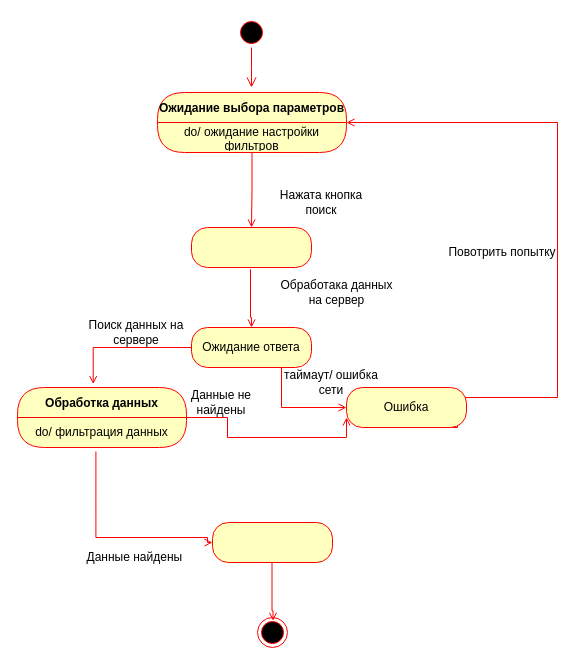
Image size: 583x665. Some labels were removed from this diagram. The shapes that lost their labels are listed below. From the top down, each one's centre as x and y in pixels, then its label:
the point at 251,247: Отправка запроса
the point at 272,542: Успешно
